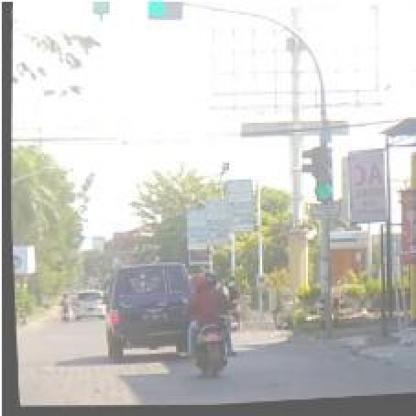green: (306, 146, 332, 202)
